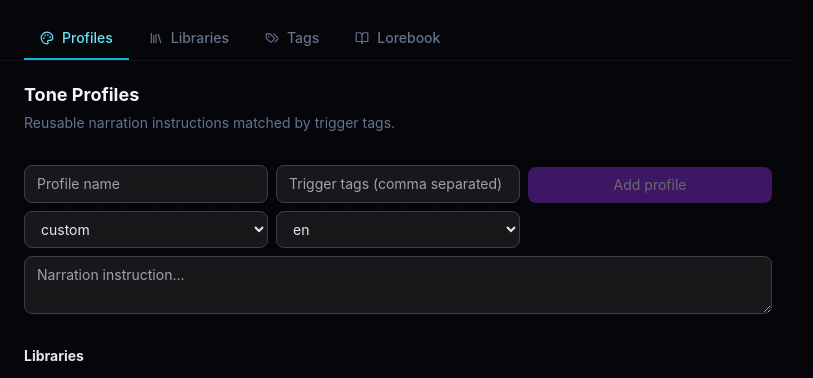
/forge/style — page skeleton (F3-4.0) › renders the real Lorebook panel (F3-4.4)
The width and height of the screenshot is (813, 378).
Click the button "Lorebook" at (398, 39), box [339,18,456,60]
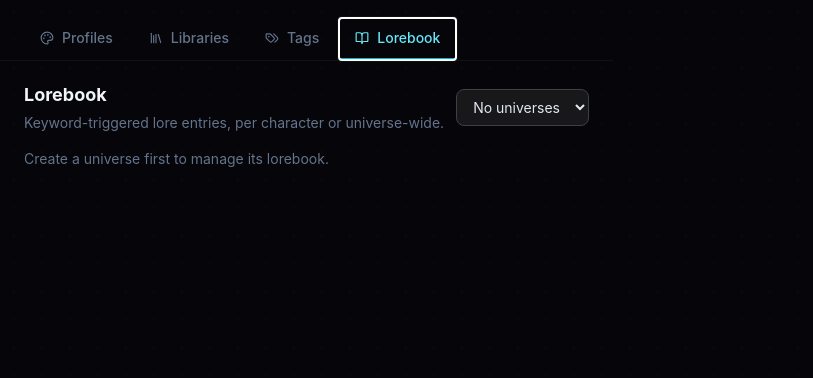
Result: the heading "Lorebook" is shown at [24,84,107,105]
Result: the dropdown named "Universe" is shown at [456,88,589,126]
Result: the text "Create a universe first to manage its lorebook." is shown at [24,150,329,167]
